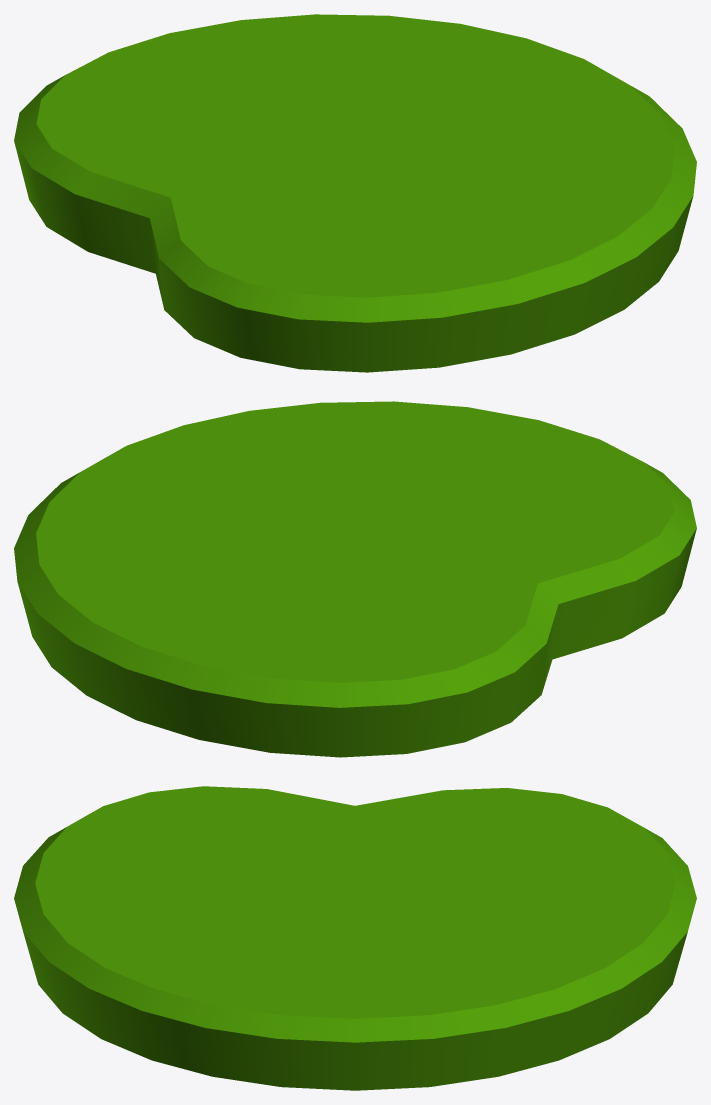
The model's file is Lily.fbx.
3 views of the same model, one above another, from view 1: azimuth 30°, elevation 25°; view 2: azimuth 150°, elevation 25°; view 3: azimuth 270°, elevation 25° (orthographic). The views are drawn at different scales.
Visible parts, largest first — view 1: Lily_LOD0; view 2: Lily_LOD0; view 3: Lily_LOD0.
Part boxes in pixels (left/top/right/bottom): Lily_LOD0: left=14, top=14, right=696, bottom=372; Lily_LOD0: left=14, top=401, right=696, bottom=757; Lily_LOD0: left=14, top=786, right=696, bottom=1090.
Size of what is drawn, in the model's own units: 62.6 by 8.03 by 72.12.
